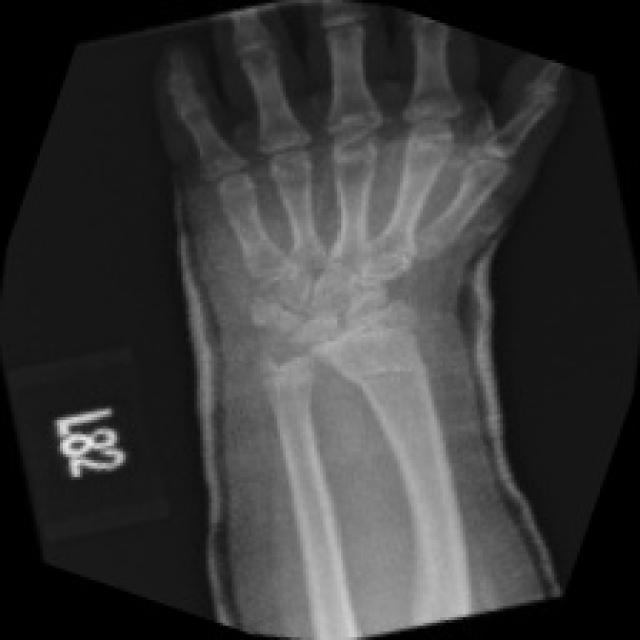fracture: (344, 347, 432, 420)
